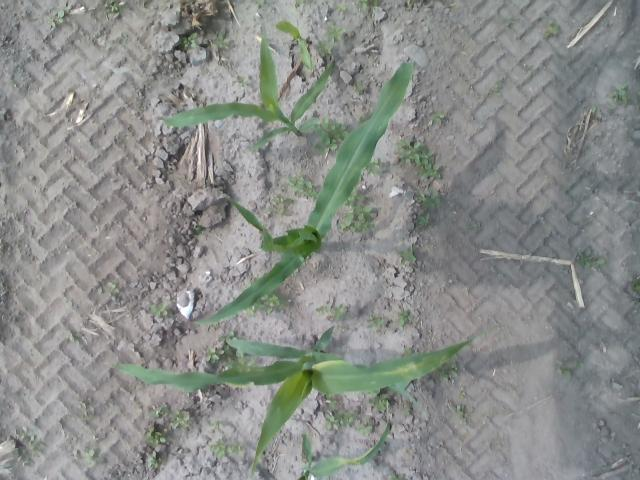Maize: (110, 324, 508, 476), (192, 61, 414, 326), (162, 20, 336, 152), (298, 414, 391, 480), (276, 20, 314, 70)
Weeds: (394, 139, 441, 180), (14, 427, 48, 467), (339, 203, 376, 235), (326, 396, 358, 432), (316, 22, 346, 56), (203, 438, 246, 461), (314, 117, 342, 152), (287, 173, 319, 198), (73, 448, 109, 470), (578, 247, 606, 269), (416, 186, 440, 210), (449, 404, 472, 428), (316, 304, 346, 322), (144, 422, 168, 444), (170, 407, 192, 430), (268, 196, 294, 215), (216, 329, 238, 351), (368, 392, 392, 412), (266, 293, 288, 314), (610, 82, 632, 103), (226, 352, 254, 368), (76, 400, 96, 421), (46, 8, 66, 29), (440, 362, 459, 384), (397, 246, 418, 265), (149, 300, 171, 318), (542, 18, 560, 40), (366, 312, 388, 330), (146, 452, 162, 475), (554, 360, 574, 378), (180, 32, 200, 50), (204, 346, 226, 362), (150, 401, 169, 419), (396, 311, 413, 330), (213, 34, 233, 50), (102, 1, 124, 15), (358, 0, 380, 13), (416, 212, 432, 228), (358, 420, 374, 436), (366, 158, 381, 174), (294, 0, 320, 9), (232, 76, 250, 88), (333, 1, 349, 14), (68, 331, 86, 342), (106, 281, 120, 295), (428, 113, 444, 125), (401, 400, 412, 416), (210, 420, 222, 434), (354, 80, 366, 92), (504, 17, 516, 29), (573, 361, 586, 372), (633, 276, 640, 296), (492, 82, 504, 92), (391, 471, 404, 480), (247, 306, 257, 317), (92, 434, 101, 446), (606, 103, 618, 112), (254, 0, 268, 7), (194, 226, 203, 235), (403, 348, 413, 356), (458, 390, 466, 400), (524, 64, 536, 70), (407, 0, 419, 6), (338, 326, 351, 331), (592, 106, 598, 115), (635, 103, 640, 112), (471, 222, 478, 228)
